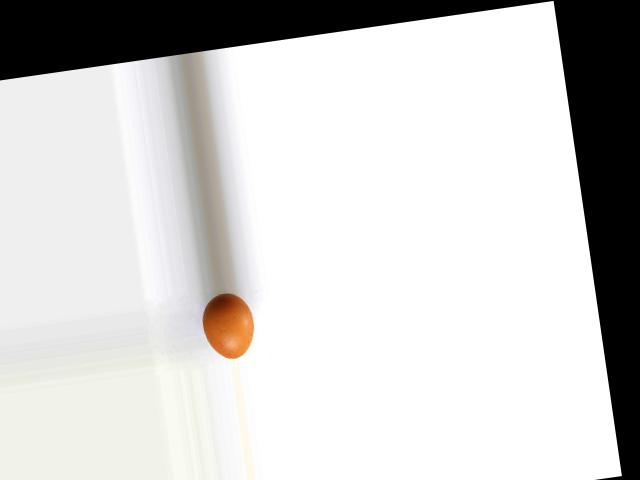egg: (198, 290, 257, 361)
